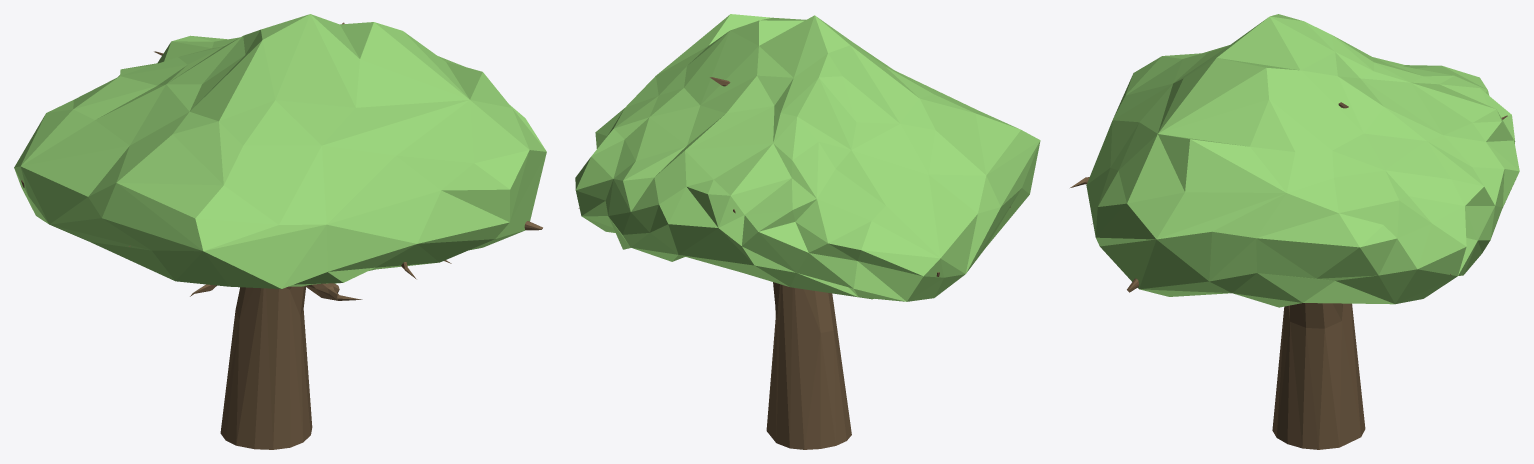
File: Tree2.1.fbx
3 views of the same model, side by side, from view 1: azimuth 30°, elevation 25°; view 2: azimuth 150°, elevation 25°; view 3: azimuth 270°, elevation 25° (orthographic). The views are drawn at different scales.
Visible parts, largest first — view 1: Icosphere, Tree; view 2: Icosphere, Tree; view 3: Icosphere, Tree.
Boxes of the visible parts, box(x1,y1,x2,y2) form: Icosphere: box(14, 14, 546, 288); Tree: box(21, 22, 542, 449); Icosphere: box(575, 14, 1040, 301); Tree: box(578, 77, 1010, 449); Icosphere: box(1086, 14, 1519, 307); Tree: box(1070, 102, 1507, 449).
Size of the model in its own units: 989 by 1002 by 967.
Materials: 1 (1 with a texture image).
